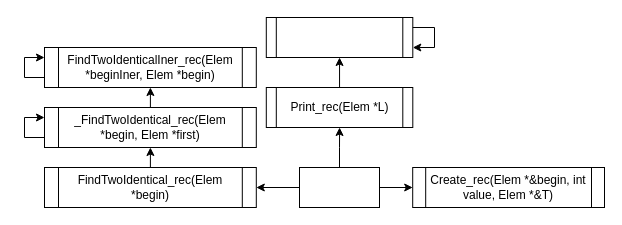
This 622x225 diagram has some shape labels left out. Each missing label, with the centre of its shape:
"_Print_rec(Elem *L, Elem *first)" belongs at [339,37].
"main()" belongs at [339,187].
